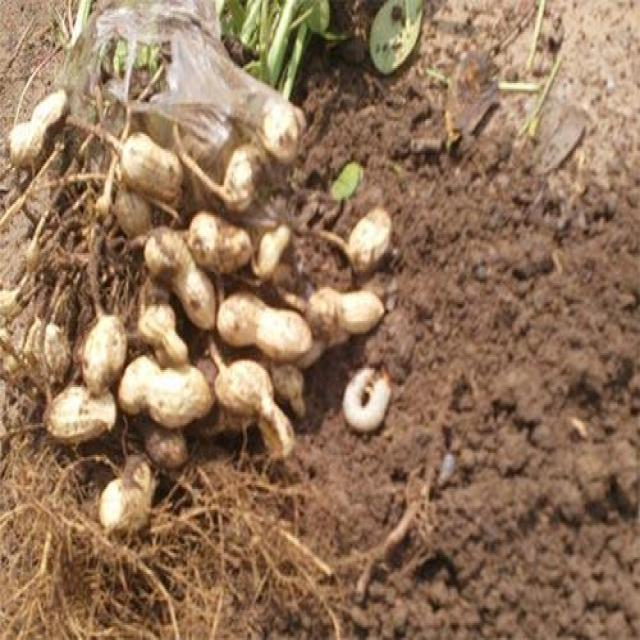Grub-Adult-: (330, 356, 408, 442)
